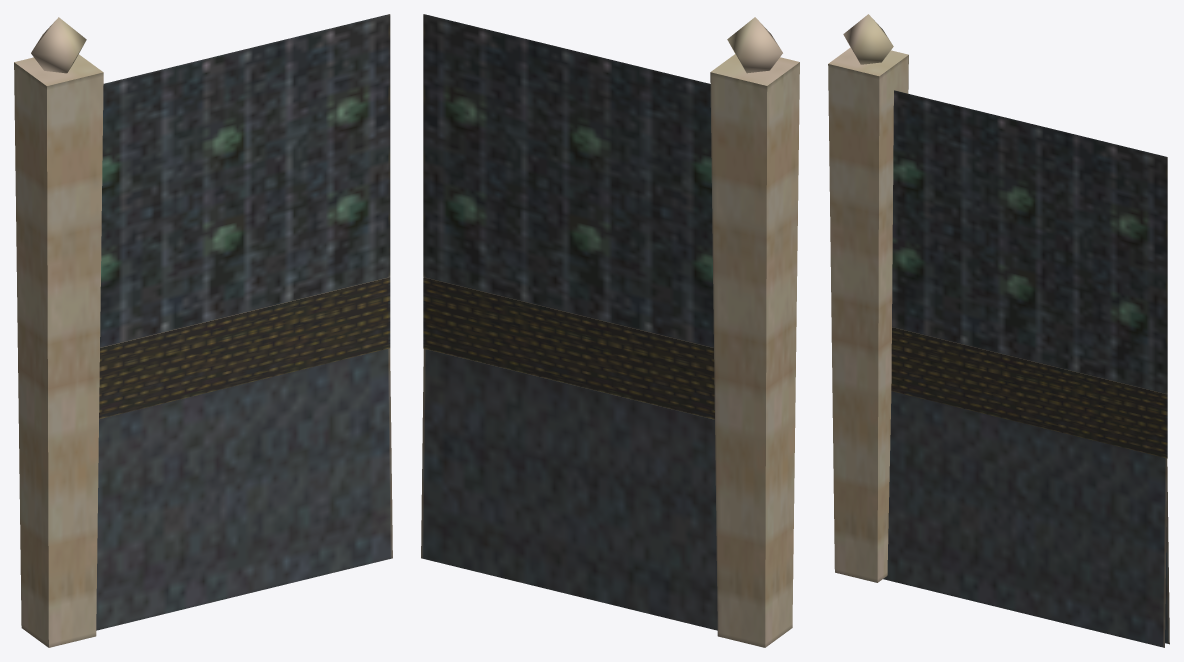
File: thm_nboo_imprv_metal_fence_wall_lg_s01_l2.fbx
3 renders of one model, left to right at view 1: azimuth 30°, elevation 25°; view 2: azimuth 150°, elevation 25°; view 3: azimuth 330°, elevation 25°, orthographic. The views are drawn at different scales.
Visible parts, largest first — view 1: mesh_node; view 2: mesh_node; view 3: mesh_node.
Boxes of the visible parts, x1=… form: mesh_node: x1=14, y1=14, x2=392, y2=647; mesh_node: x1=421, y1=14, x2=799, y2=647; mesh_node: x1=828, y1=14, x2=1169, y2=647.
Bounding box in the file's own units: 3.8 × 6.26 × 0.6.
Materials: 2 (2 with a texture image).
